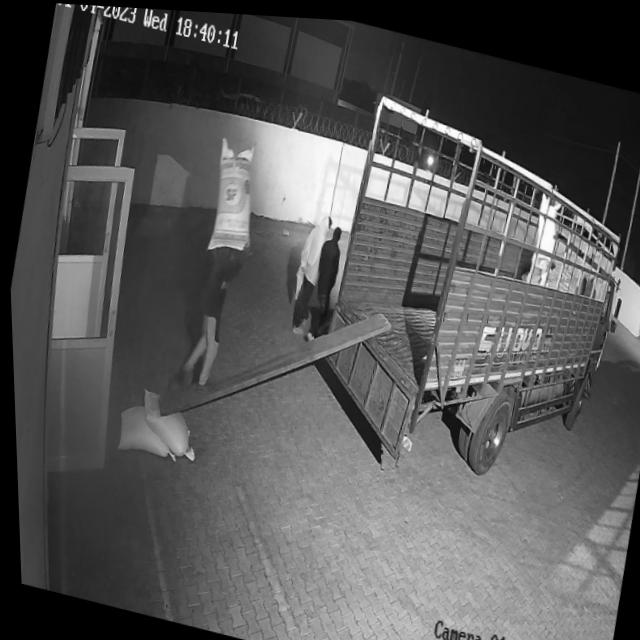sack: (199, 132, 267, 259), (130, 385, 195, 458), (111, 397, 174, 459), (528, 184, 564, 255)
